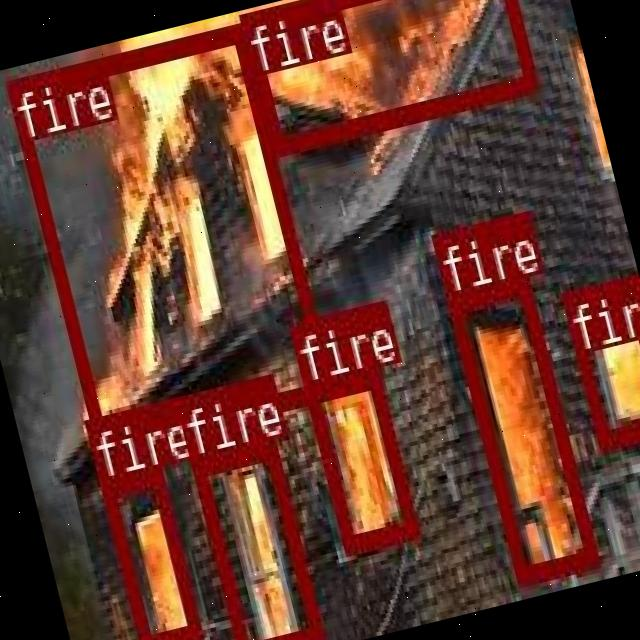fire: (5, 22, 333, 452), (446, 275, 596, 581), (236, 0, 534, 152), (188, 437, 321, 640), (302, 366, 415, 550), (96, 467, 199, 640), (559, 274, 640, 446)
